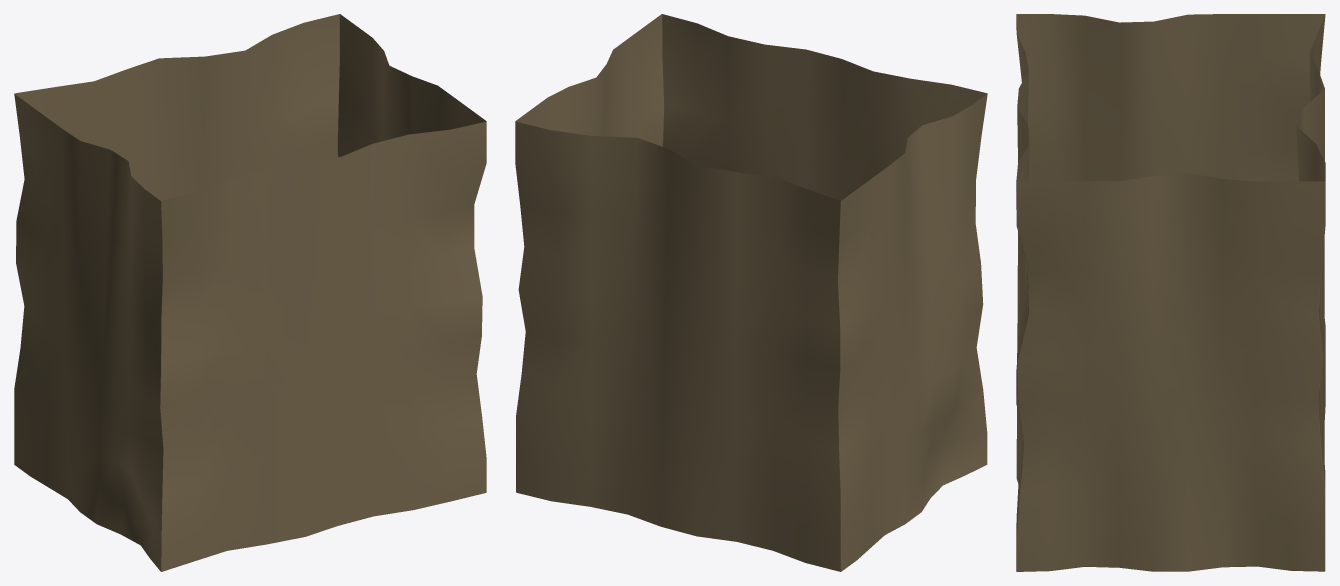
File: grocery-bag.fbx
The picture shows the model from 3 angles, left to right: view 1: azimuth 30°, elevation 25°; view 2: azimuth 150°, elevation 25°; view 3: azimuth 270°, elevation 25°; orthographic projection. The views are drawn at different scales.
Parts seen in each view (by area): view 1: pCube1; view 2: pCube1; view 3: pCube1.
Boxes of the visible parts, x1,y1,x2,y2 form: pCube1: (14,14,486,571); pCube1: (515,14,987,571); pCube1: (1016,14,1325,571).
Size of the model in its own units: 1.03 by 1.12 by 0.8037.
